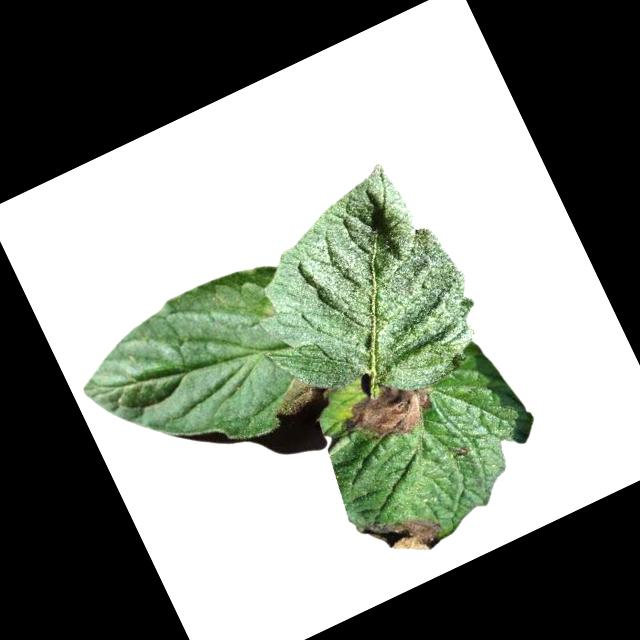Late_blight: (331, 364, 445, 460), (356, 495, 447, 574), (263, 364, 335, 422), (453, 441, 473, 458)
